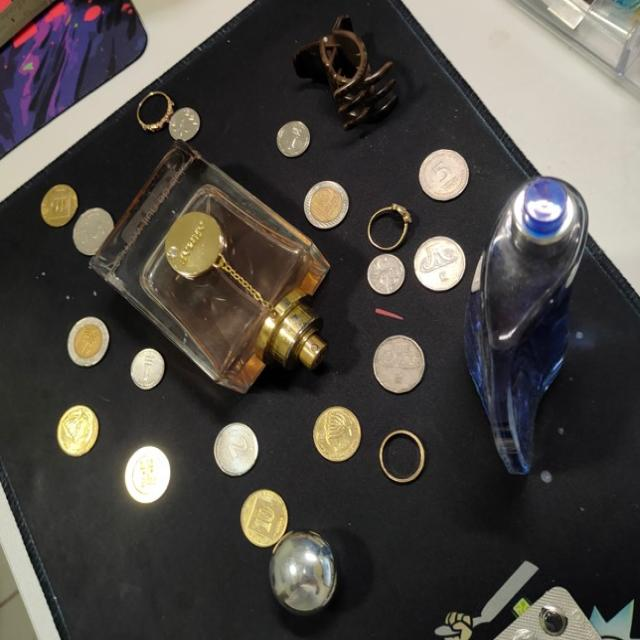1-shekel: (128, 346, 166, 390), (368, 253, 406, 294), (276, 119, 313, 160), (168, 106, 202, 142)
10-shekel: (124, 449, 176, 508), (66, 314, 110, 372), (302, 180, 347, 234)
2-shekel: (213, 422, 261, 475)
5-shekel: (372, 332, 425, 398), (414, 234, 465, 296), (418, 148, 472, 200), (73, 207, 116, 261)
